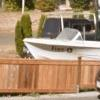Boat: (17, 21, 100, 70)
